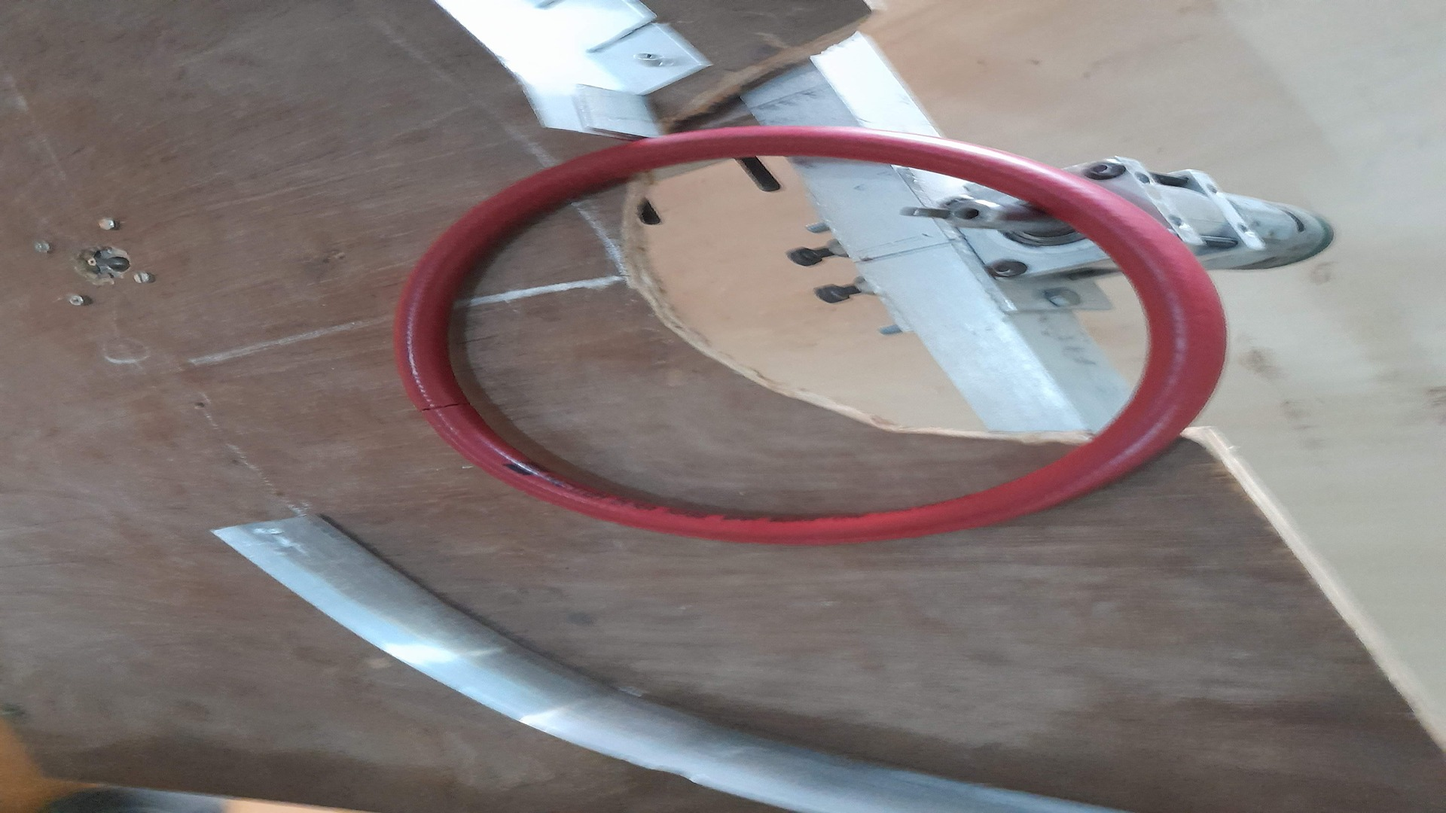Red ring: (389, 124, 1210, 546)
